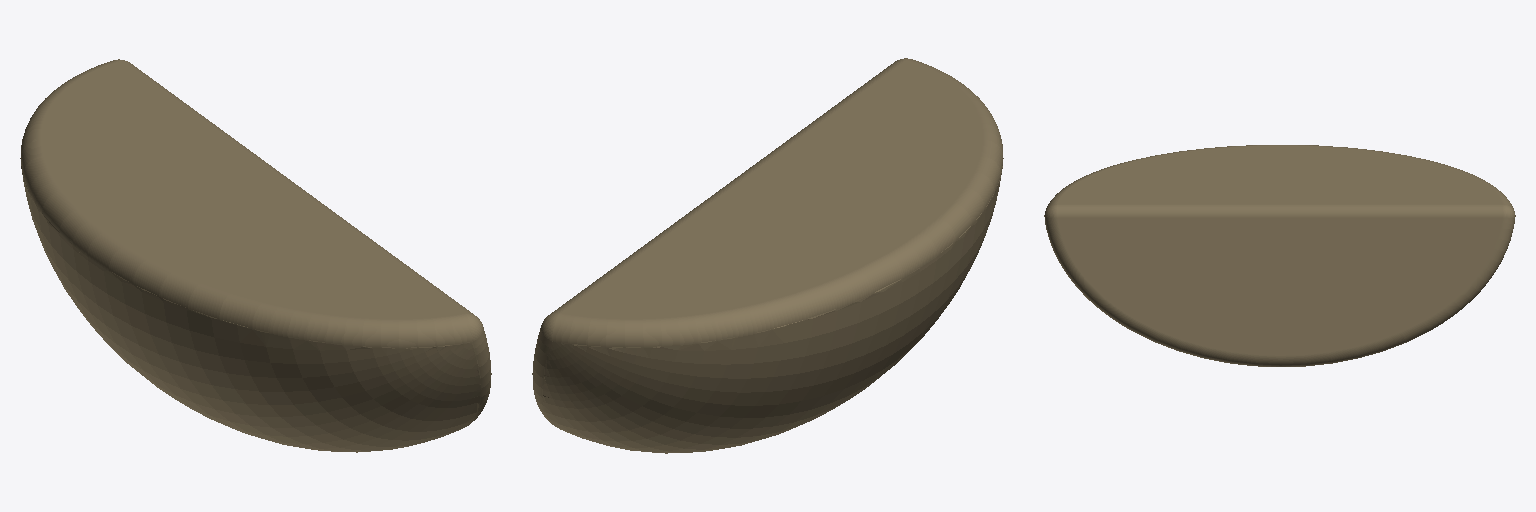
robot.urdf — Lemon_Wedge:
<?xml version="1.0"?>
<robot name="Lemon_Wedge">
  <link name="base_link">
    <visual>
      <origin xyz="0 0 0" rpy="0 0 0" />
      <geometry>
        <mesh filename="Lemon_Wedge.obj"/>      
      </geometry>
      <material name="tan">
        <color rgba="0.55 0.5 0.4 1"/>
      </material>
    </visual>
    <collision>
      <origin xyz="0 0 0" rpy="0 0 0" />
      <geometry>
        <mesh filename="Lemon_Wedge.obj"/>
      </geometry>
    </collision>
  </link>
</robot>

--- What the picture shows (computed from the rendered views, not written in the file) ---
Views: 3 orthographic renders of the robot side by side, from view 1: azimuth 30°, elevation 25°; view 2: azimuth 150°, elevation 25°; view 3: azimuth 270°, elevation 25°.
Robot: Lemon_Wedge — 1 links, 0 joints (none); root link base_link; default pose: all joints at 0.
Links seen in each view (by area): view 1: base_link; view 2: base_link; view 3: base_link.
Boxes of the visible links, box(x1,y1,x2,y2) form: base_link: box(20, 59, 491, 452); base_link: box(532, 58, 1003, 453); base_link: box(1044, 145, 1515, 366).
Size in the robot's own frame: 20.59 by 46.03 by 15.79 metres.
Meshes: 1 distinct files referenced, 1 mesh visuals loaded (1 OBJ).
